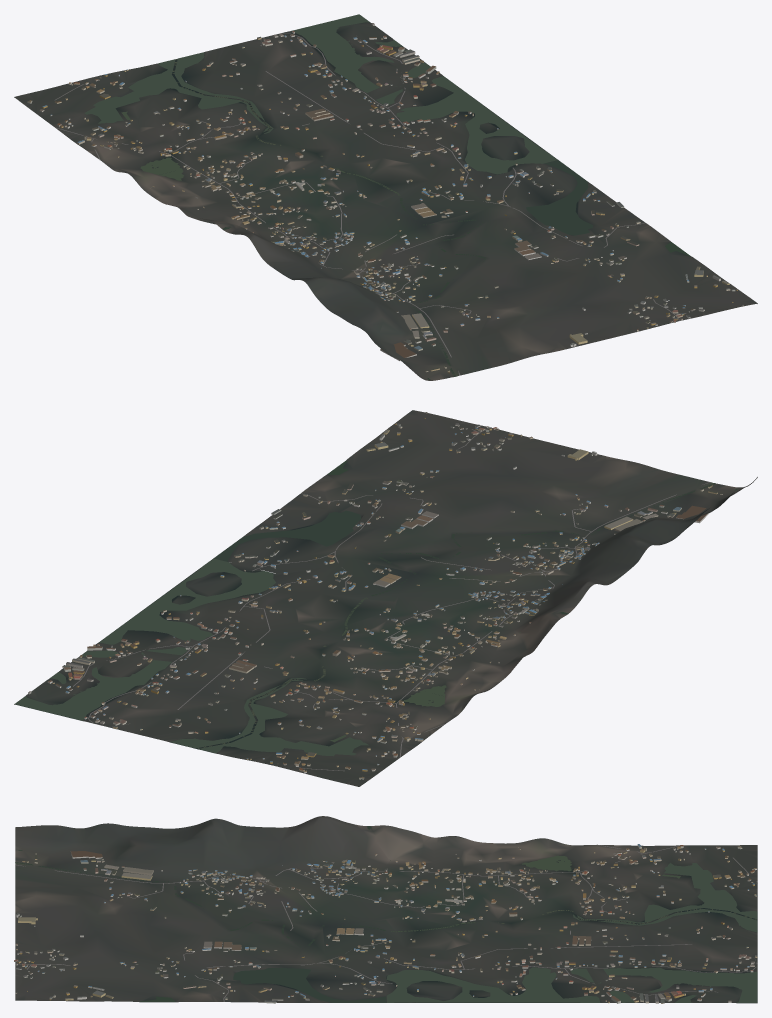
The picture shows the model from 3 angles, top to bottom: view 1: azimuth 30°, elevation 25°; view 2: azimuth 150°, elevation 25°; view 3: azimuth 270°, elevation 25°; orthographic projection. The views are drawn at different scales.
Visible parts, largest first — view 1: ground, water, buildings, roads; view 2: ground, water, buildings, roads; view 3: ground, water, buildings, roads.
Boxes of the visible parts, x1=… form: ground: x1=14, y1=22, x2=757, y2=380; water: x1=84, y1=14, x2=689, y2=379; buildings: x1=27, y1=23, x2=743, y2=373; roads: x1=54, y1=33, x2=686, y2=375; ground: x1=14, y1=410, x2=757, y2=786; water: x1=14, y1=461, x2=737, y2=756; buildings: x1=28, y1=412, x2=722, y2=779; roads: x1=73, y1=428, x2=710, y2=771; ground: x1=15, y1=816, x2=757, y2=1003; water: x1=15, y1=826, x2=757, y2=1002; buildings: x1=14, y1=844, x2=757, y2=1003; roads: x1=15, y1=843, x2=757, y2=1001.
Size of the model in its own units: 1411 by 134 by 2810.
